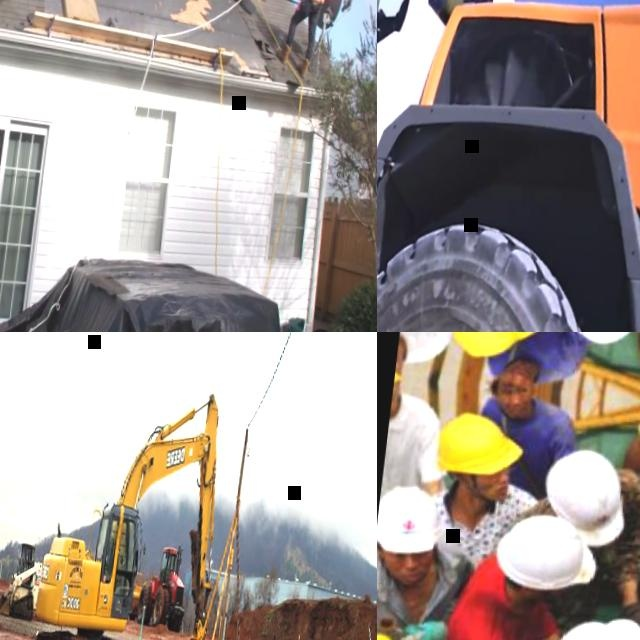Hardhat: (424, 405, 548, 567), (377, 480, 493, 640), (533, 442, 633, 555), (493, 512, 605, 596), (433, 406, 528, 486), (377, 484, 448, 559), (542, 599, 640, 640), (445, 332, 542, 364), (562, 332, 640, 345)
NO-Hardhat: (485, 374, 535, 400)
NO-Safety Vest: (481, 402, 563, 489), (377, 556, 465, 637), (440, 585, 557, 640), (438, 493, 519, 571), (587, 498, 639, 592), (383, 401, 442, 480), (487, 332, 586, 378), (398, 332, 457, 342)
Person: (512, 439, 640, 628), (440, 505, 605, 640), (474, 362, 583, 495), (381, 385, 453, 492), (480, 332, 590, 384), (273, 0, 335, 79), (542, 596, 640, 640), (446, 332, 552, 360), (395, 332, 472, 368), (377, 0, 416, 33)
machinery: (377, 0, 640, 332), (25, 369, 239, 640), (130, 542, 193, 631), (0, 539, 45, 619)
